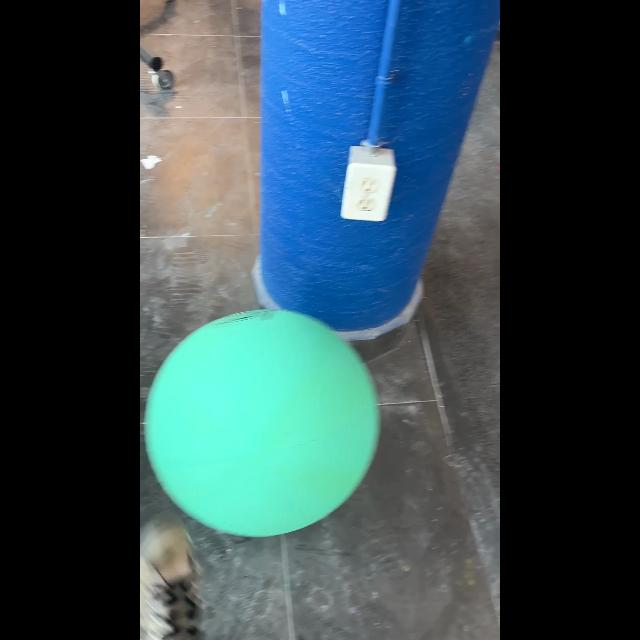ALGAE: (144, 308, 380, 538)
